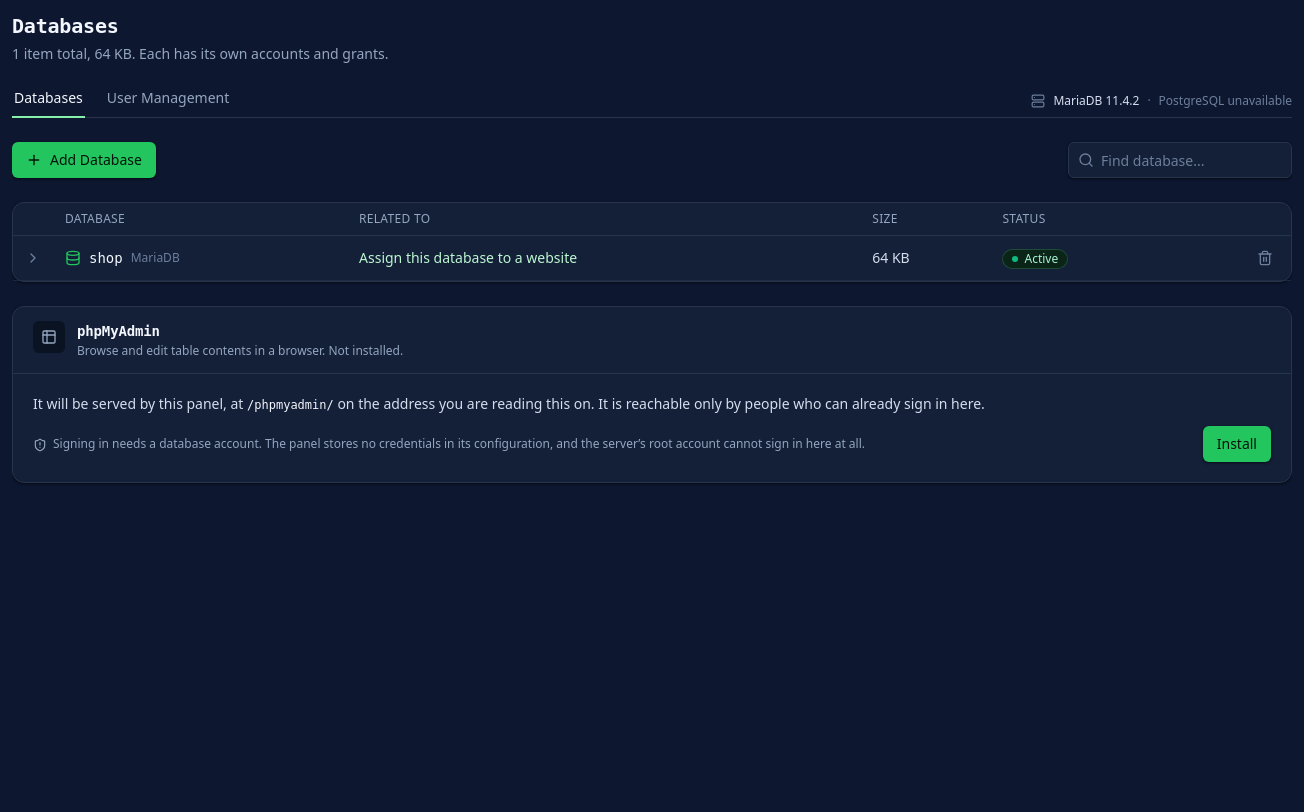
Test case: DatabasesPage › opens a database in place and shows its tools and facts
expect the button "shop" is shown: met, box [89,248,123,268]
Click the button named "Expand shop". click: [33, 258]
box: [21,246,45,270]
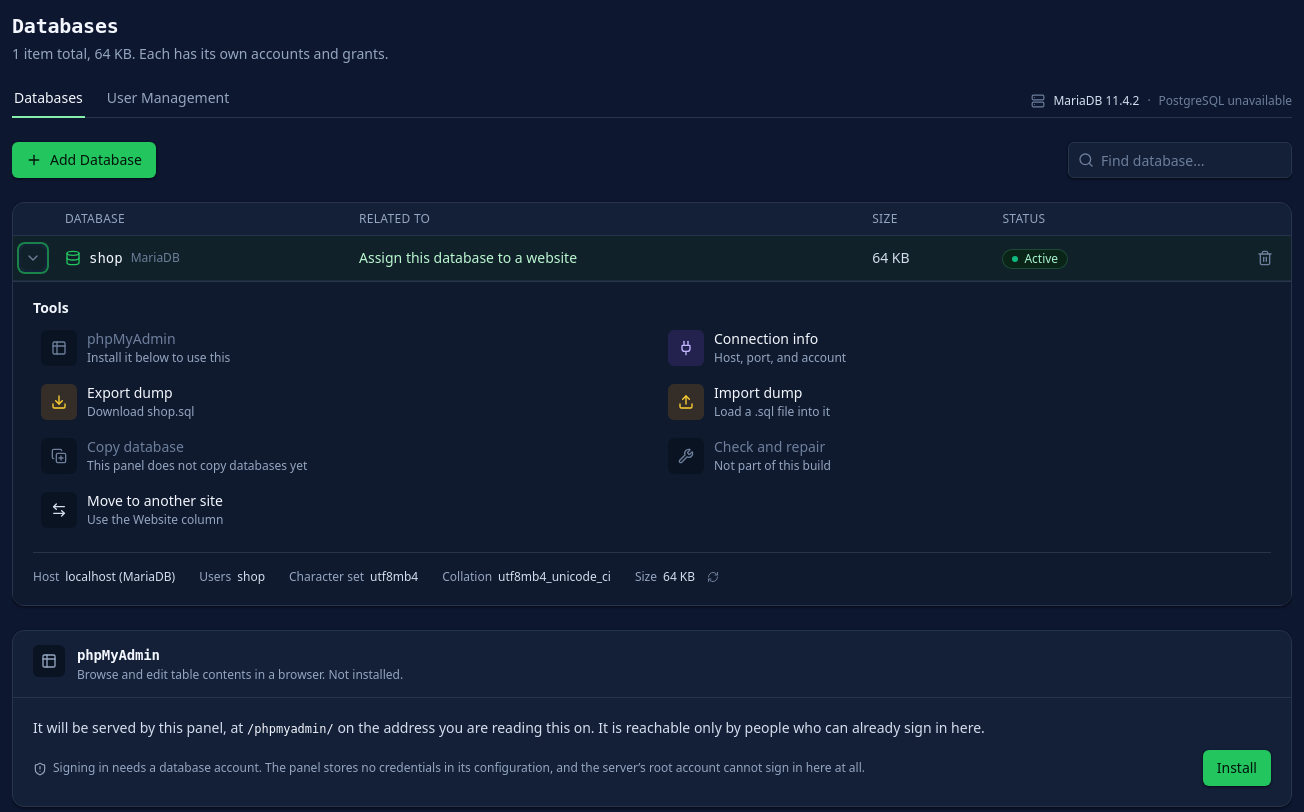
expect the text "Connection info" is shown: met, box [714,329,818,348]
expect the button "Export dump Download shop.sql" is shown: met, box [33,376,644,428]
expect the button "Import dump Load a .sql file into it" is shown: met, box [660,376,1271,428]
